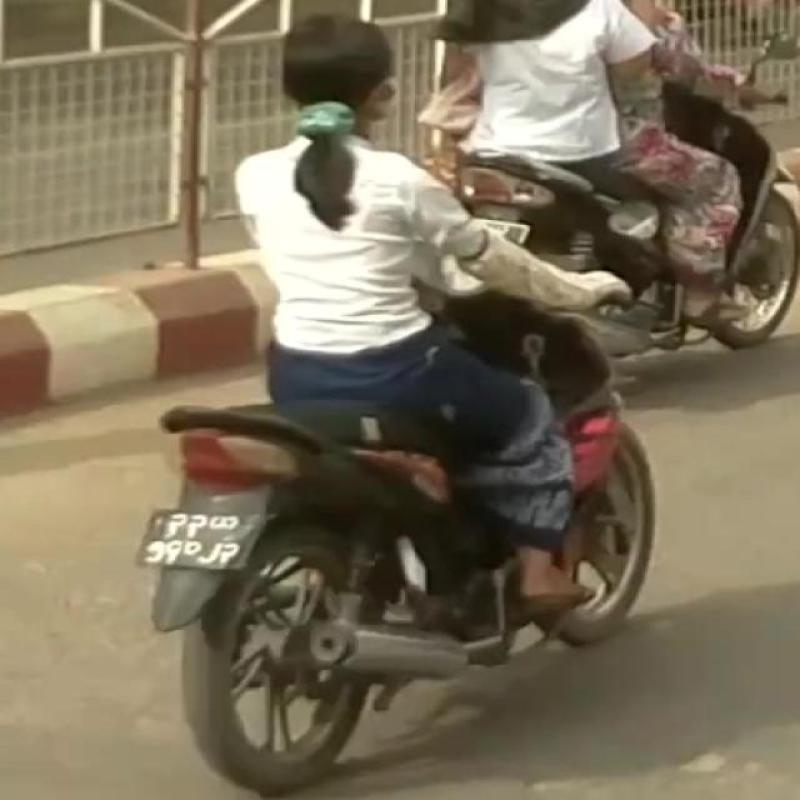nohelmet: (260, 0, 438, 185)
